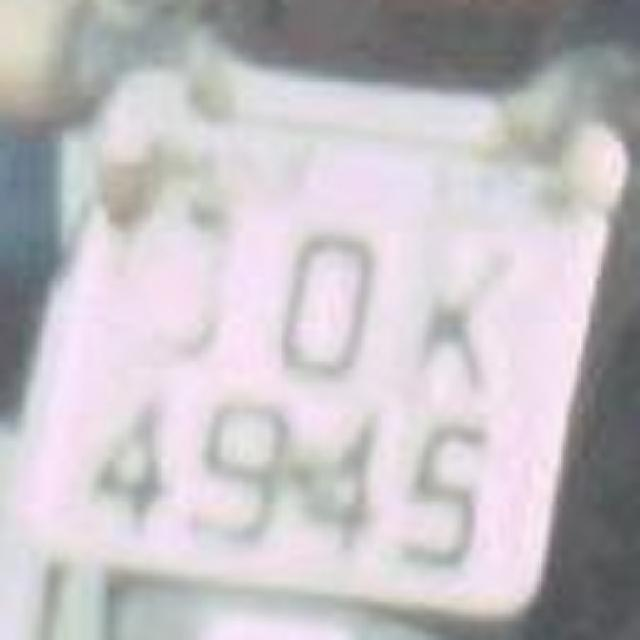4: (68, 364, 192, 548)
5: (384, 405, 516, 580)
9: (180, 372, 308, 556)
J: (104, 188, 248, 392)
O: (252, 200, 392, 395)
